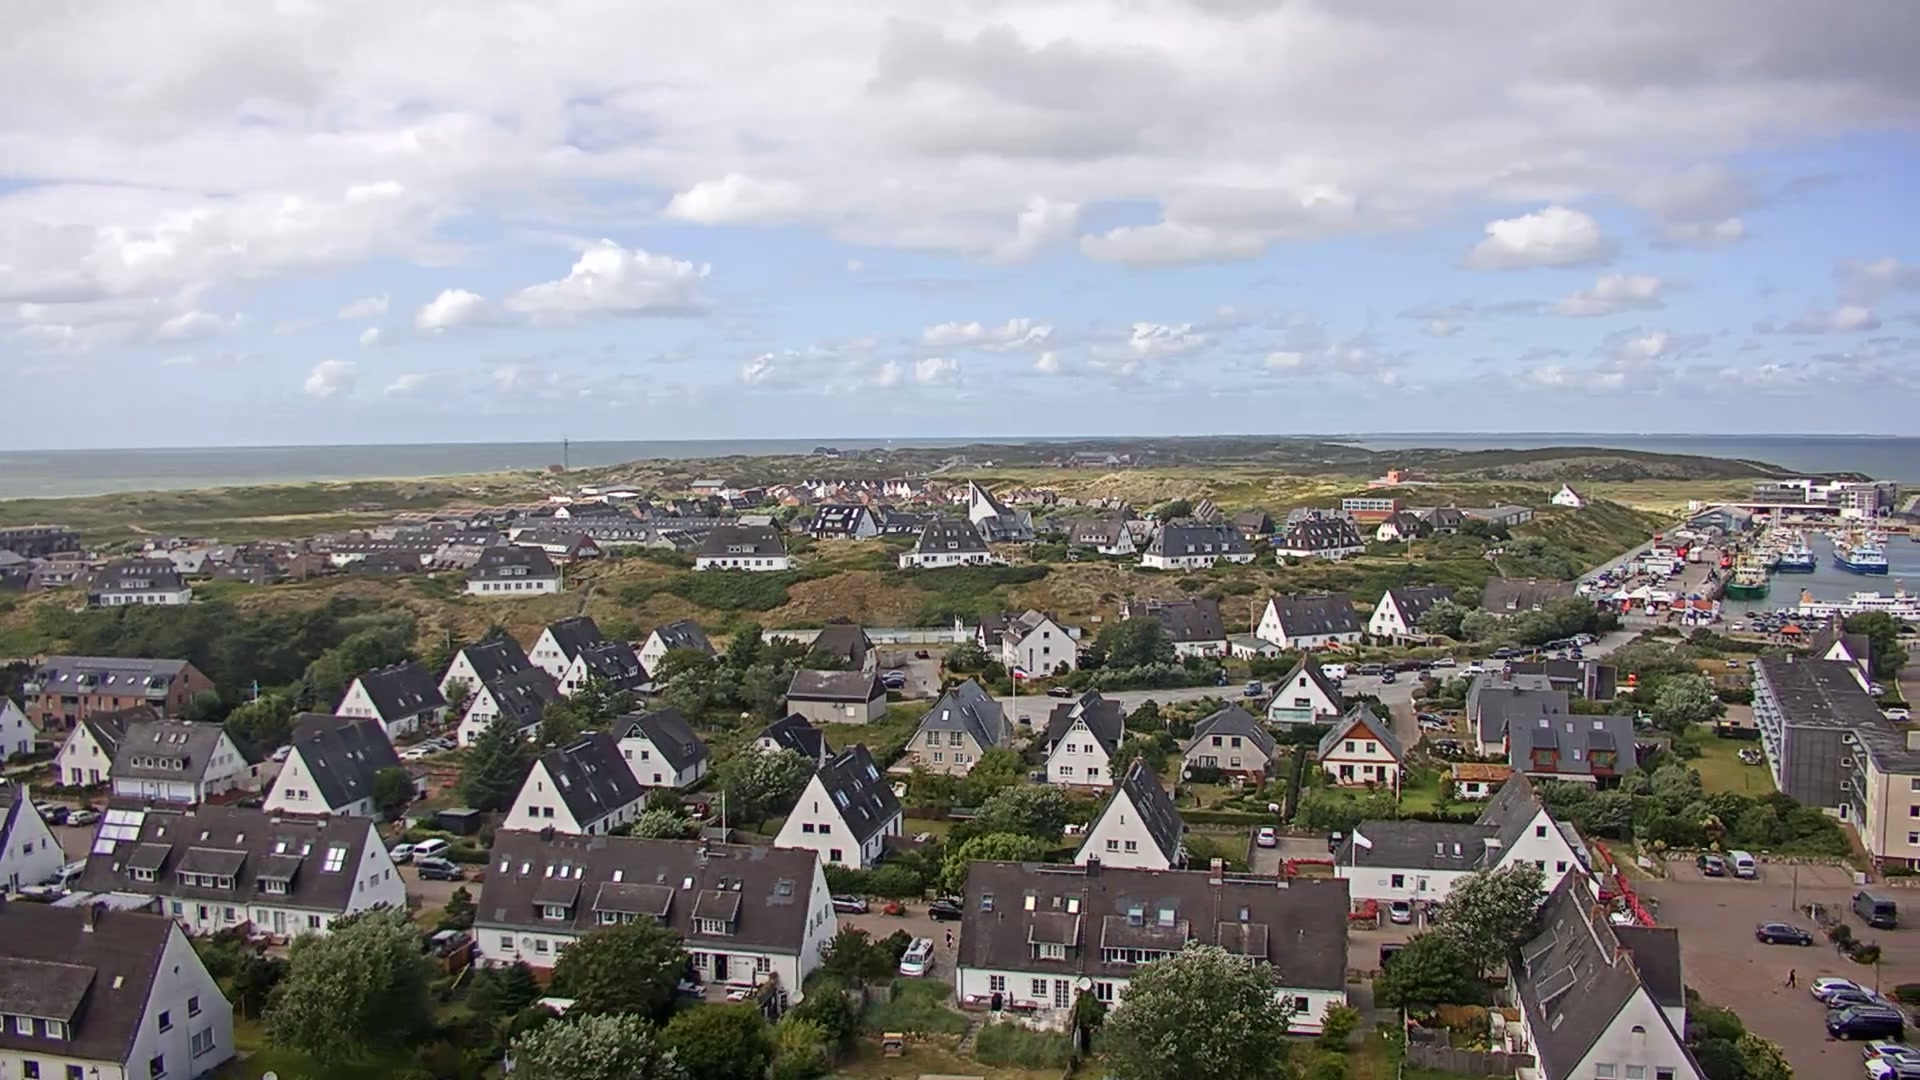human: (1786, 967, 1796, 987), (946, 927, 954, 948), (921, 678, 928, 687), (1595, 639, 1600, 647), (1683, 580, 1687, 587), (1725, 625, 1729, 632)
land: (1825, 1003, 1902, 1040), (1851, 888, 1896, 929), (43, 856, 88, 893), (1809, 975, 1874, 1000), (897, 936, 933, 977), (1862, 1053, 1920, 1079), (1755, 921, 1812, 944), (1824, 990, 1894, 1009), (1861, 1039, 1919, 1059), (411, 837, 452, 865), (418, 857, 464, 881), (431, 928, 472, 955), (1723, 848, 1755, 878), (927, 898, 965, 919), (829, 893, 868, 913), (36, 804, 71, 825), (66, 809, 101, 827), (1695, 854, 1724, 876), (387, 842, 415, 863), (1422, 898, 1442, 924), (1388, 899, 1411, 923), (423, 736, 456, 750), (1881, 706, 1911, 720), (1319, 662, 1347, 678), (1257, 825, 1276, 847), (269, 743, 292, 761), (398, 748, 427, 761), (1356, 662, 1384, 675), (1416, 712, 1446, 724), (1242, 679, 1262, 696), (1456, 666, 1484, 678), (1518, 643, 1546, 655), (1328, 830, 1343, 852), (1046, 686, 1072, 698), (1430, 656, 1456, 667), (1391, 659, 1417, 671), (882, 669, 906, 680), (1488, 646, 1511, 658), (883, 677, 904, 688), (1419, 720, 1443, 731), (1868, 680, 1885, 696), (419, 742, 442, 753), (1380, 668, 1395, 683), (1564, 636, 1583, 647), (1343, 661, 1358, 672), (1415, 658, 1432, 669), (1612, 568, 1626, 580), (914, 649, 930, 659), (1541, 641, 1559, 650), (1644, 603, 1656, 616), (1725, 658, 1739, 668), (1572, 633, 1588, 642), (1418, 668, 1429, 680), (1570, 647, 1582, 659), (1731, 620, 1744, 630), (1751, 621, 1764, 631), (1468, 659, 1482, 668), (1555, 639, 1571, 648), (1511, 649, 1524, 658), (1656, 579, 1667, 589), (1597, 579, 1608, 589), (1778, 619, 1789, 628), (1555, 650, 1567, 659), (1800, 625, 1810, 634), (1818, 620, 1828, 630), (1767, 624, 1779, 632), (1752, 616, 1764, 624), (1587, 633, 1600, 640), (1762, 610, 1772, 618), (1663, 571, 1673, 579), (1790, 611, 1799, 618), (1769, 614, 1778, 623), (1637, 567, 1645, 575), (1746, 610, 1755, 617), (1776, 610, 1785, 617), (1806, 613, 1814, 620), (1806, 621, 1815, 628), (1811, 621, 1819, 628)
sea: (1774, 576, 1920, 620), (1834, 534, 1888, 574), (1777, 533, 1816, 573), (1725, 564, 1769, 598)
